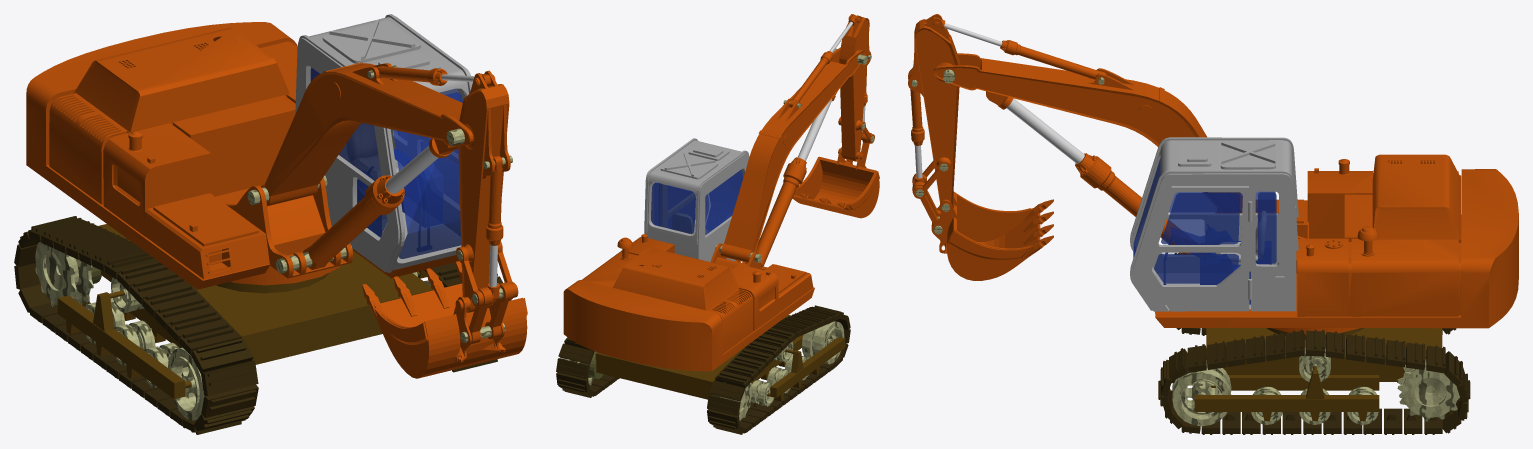
The model's file is excavaror.fbx.
3 renders of one model, left to right at view 1: azimuth 30°, elevation 25°; view 2: azimuth 150°, elevation 25°; view 3: azimuth 270°, elevation 25°, orthographic. The views are drawn at different scales.
Visible parts, largest first — view 1: engineBody-rb-compound-hinge, cabin, base-rb-compound, rightThread-rb-hinge-box (×19), engineBody-convexhull-hidden, arm01-convexhull-hidden, bucket-rb-compound-hinge, arm01-rb-compound-hinge, cabin-convexhull-hidden, arm02-rb-compound-hinge, hydrolic_004, arm02-convexhull-hidden (+10 smaller); view 2: engineBody-rb-compound-hinge, cabin, arm01-rb-compound-hinge, base-rb-compound, bucket-rb-compound-hinge, cabin-convexhull-hidden, rightThread-rb-hinge-box (×8), arm02-rb-compound-hinge, hydrolic_004, bucket-convexhull-hidden, leftThrea-rb-hinge-box (×3), engineBody-convexhull-hidden (+6 smaller); view 3: engineBody-rb-compound-hinge, cabin, arm01-rb-compound-hinge, base-rb-compound, cabin-convexhull-hidden, bucket-rb-compound-hinge, arm02-convexhull-hidden, engineBody-convexhull-hidden, arm01-convexhull-hidden, leftGear, leftFrontRoller, bucket-convexhull-hidden (+6 smaller).
Boxes of the visible parts, left/top/right/bottom form: engineBody-rb-compound-hinge: left=26, top=22, right=458, bottom=289; cabin: left=295, top=14, right=472, bottom=272; base-rb-compound: left=57, top=224, right=433, bottom=399; rightThread-rb-hinge-box (×19): left=14, top=216, right=258, bottom=431; engineBody-convexhull-hidden: left=46, top=22, right=379, bottom=285; arm01-convexhull-hidden: left=260, top=63, right=473, bottom=206; bucket-rb-compound-hinge: left=362, top=261, right=527, bottom=378; arm01-rb-compound-hinge: left=263, top=62, right=473, bottom=204; cabin-convexhull-hidden: left=311, top=68, right=462, bottom=258; arm02-rb-compound-hinge: left=446, top=70, right=510, bottom=312; hydrolic_004: left=276, top=175, right=404, bottom=273; arm02-convexhull-hidden: left=469, top=84, right=509, bottom=312; engineBody-rb-compound-hinge: left=563, top=234, right=813, bottom=371; cabin: left=644, top=138, right=749, bottom=261; arm01-rb-compound-hinge: left=720, top=48, right=864, bottom=262; base-rb-compound: left=595, top=315, right=845, bottom=400; bucket-rb-compound-hinge: left=792, top=147, right=879, bottom=218; cabin-convexhull-hidden: left=651, top=170, right=742, bottom=234; rightThread-rb-hinge-box (×8): left=707, top=340, right=781, bottom=428; arm02-rb-compound-hinge: left=833, top=14, right=871, bottom=161; hydrolic_004: left=755, top=157, right=806, bottom=267; bucket-convexhull-hidden: left=792, top=147, right=879, bottom=217; leftThrea-rb-hinge-box (×3): left=556, top=343, right=594, bottom=392; engineBody-convexhull-hidden: left=576, top=243, right=814, bottom=327; engineBody-rb-compound-hinge: left=1155, top=154, right=1518, bottom=334; cabin: left=1130, top=137, right=1298, bottom=311; arm01-rb-compound-hinge: left=934, top=53, right=1256, bottom=213; base-rb-compound: left=1194, top=328, right=1442, bottom=421; cabin-convexhull-hidden: left=1133, top=159, right=1276, bottom=304; bucket-rb-compound-hinge: left=931, top=191, right=1053, bottom=280; arm02-convexhull-hidden: left=914, top=19, right=959, bottom=205; engineBody-convexhull-hidden: left=1155, top=155, right=1515, bottom=317; arm01-convexhull-hidden: left=934, top=53, right=1241, bottom=212; leftGear: left=1397, top=358, right=1459, bottom=421; leftFrontRoller: left=1172, top=360, right=1231, bottom=426; bucket-convexhull-hidden: left=931, top=196, right=1053, bottom=280.
Bounding box in the file's own units: 490 × 990 × 632.
8 materials, 1 textured.
